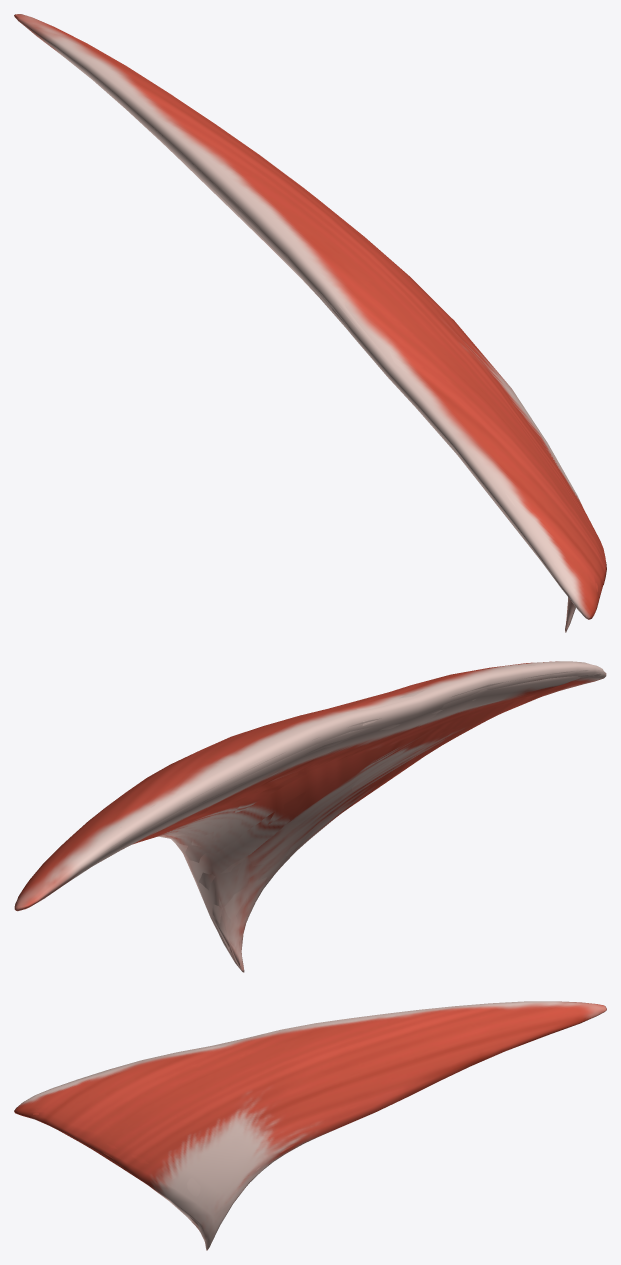
Rendered from L Trapezius.fbx.
3 views of the same model, one above another, from view 1: azimuth 30°, elevation 25°; view 2: azimuth 150°, elevation 25°; view 3: azimuth 270°, elevation 25° (orthographic). The views are drawn at different scales.
Visible parts, largest first — view 1: L Trapezius, L Trapezius low, L Trapezius high; view 2: L Trapezius, L Trapezius low, L Trapezius high; view 3: L Trapezius, L Trapezius high, L Trapezius low.
Boxes of the visible parts, x1,y1,x2,y2 form: L Trapezius: (14, 14, 606, 632); L Trapezius low: (58, 51, 568, 622); L Trapezius high: (21, 15, 599, 630); L Trapezius: (14, 661, 606, 972); L Trapezius low: (77, 676, 580, 966); L Trapezius high: (15, 662, 605, 965); L Trapezius: (14, 1001, 606, 1250); L Trapezius high: (25, 1003, 601, 1245); L Trapezius low: (44, 1034, 545, 1139).
Size of the model in its own units: 10.79 by 20.09 by 52.65.
1 material, 1 textured.
